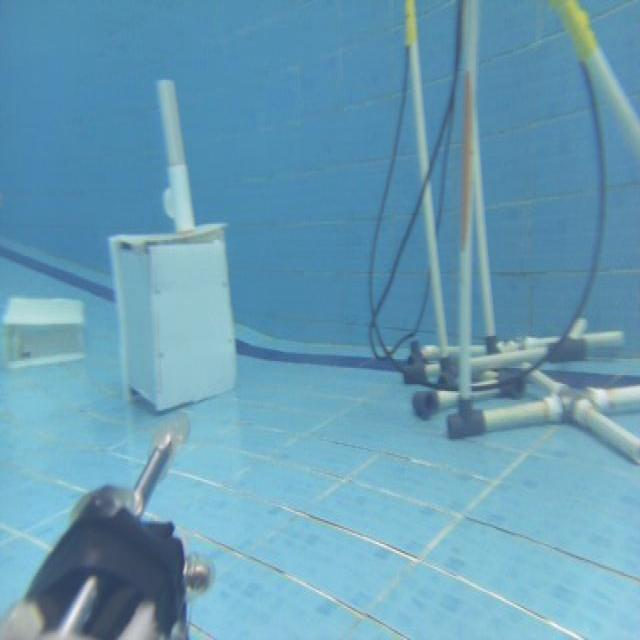Cube: (107, 218, 238, 412)
Cuboid: (2, 292, 87, 369)
